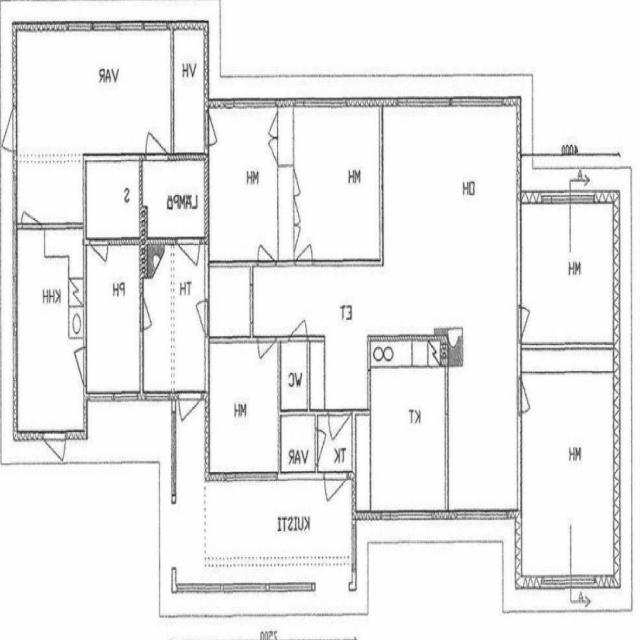door: (325, 472, 348, 525), (179, 392, 202, 442), (44, 432, 66, 483), (178, 238, 200, 287), (146, 112, 167, 160), (329, 410, 350, 456), (63, 347, 87, 386), (22, 188, 41, 228), (187, 300, 209, 334), (205, 111, 227, 145), (90, 238, 108, 279), (517, 306, 538, 341), (295, 226, 313, 266), (258, 336, 276, 376), (0, 108, 17, 150), (140, 295, 160, 330), (258, 226, 275, 266), (316, 431, 336, 465), (517, 380, 538, 412), (290, 304, 306, 341)
